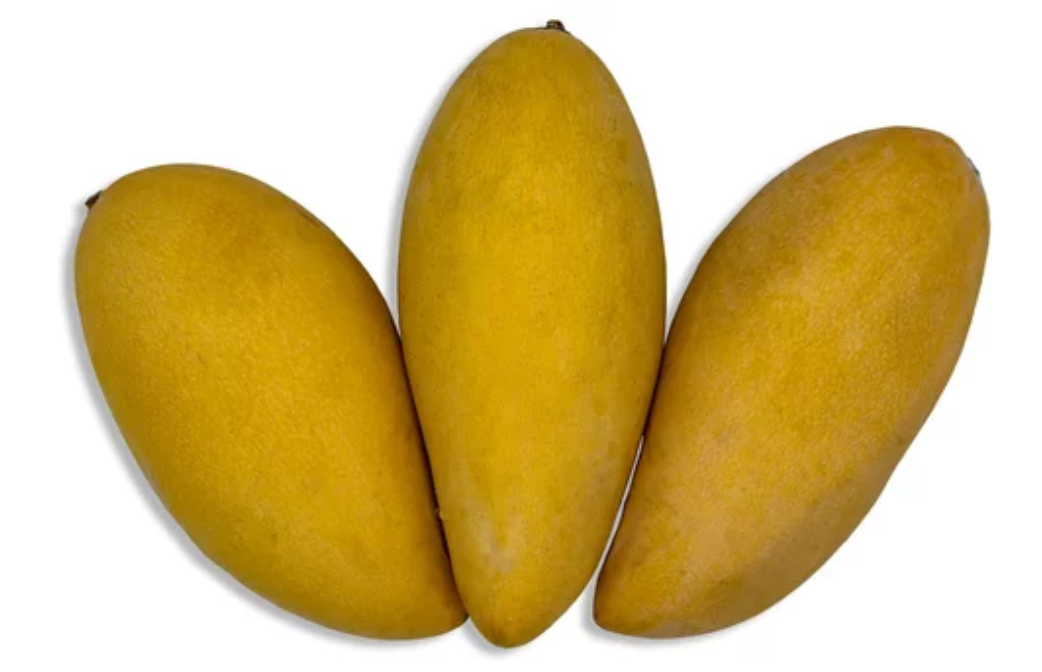mango: (593, 123, 988, 641), (70, 159, 478, 638), (395, 23, 670, 647)
